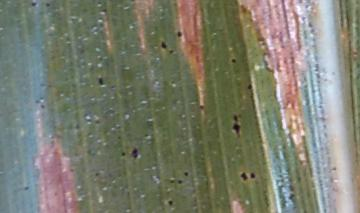tarspot: (231, 122, 242, 137), (238, 171, 249, 182), (131, 146, 140, 159), (96, 76, 105, 87), (229, 56, 239, 65), (174, 29, 183, 39), (158, 40, 167, 50), (231, 114, 240, 123), (248, 172, 256, 181), (246, 82, 253, 91), (167, 48, 175, 55), (182, 170, 190, 177), (176, 178, 184, 185), (167, 199, 174, 207), (23, 184, 30, 192), (120, 150, 127, 157), (93, 118, 101, 124), (29, 2, 38, 7), (168, 178, 174, 185), (40, 103, 46, 110), (34, 99, 40, 105), (198, 104, 204, 110), (94, 171, 100, 177), (45, 3, 50, 9), (39, 95, 44, 101)
